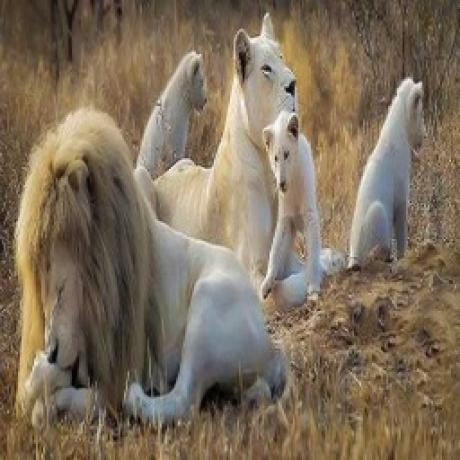Lion: (16, 104, 288, 424), (152, 9, 300, 282), (346, 71, 430, 267), (257, 98, 326, 306), (136, 48, 210, 175)
